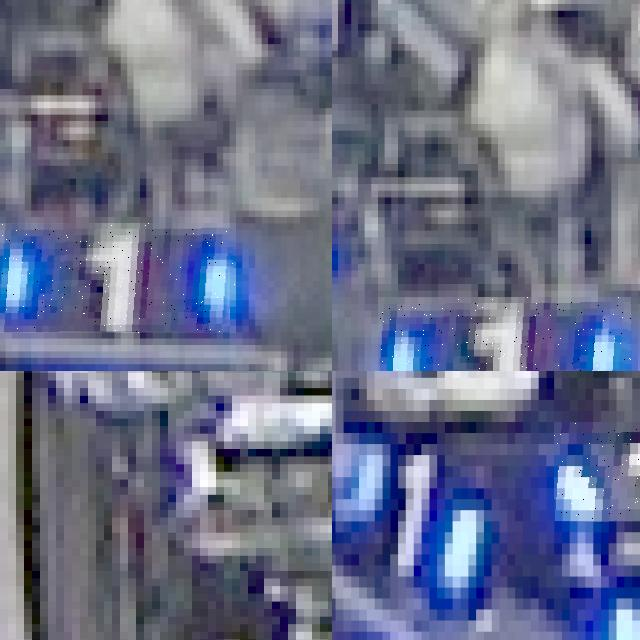B1: (0, 223, 236, 332), (351, 433, 484, 588), (377, 297, 631, 371), (554, 421, 640, 521)
